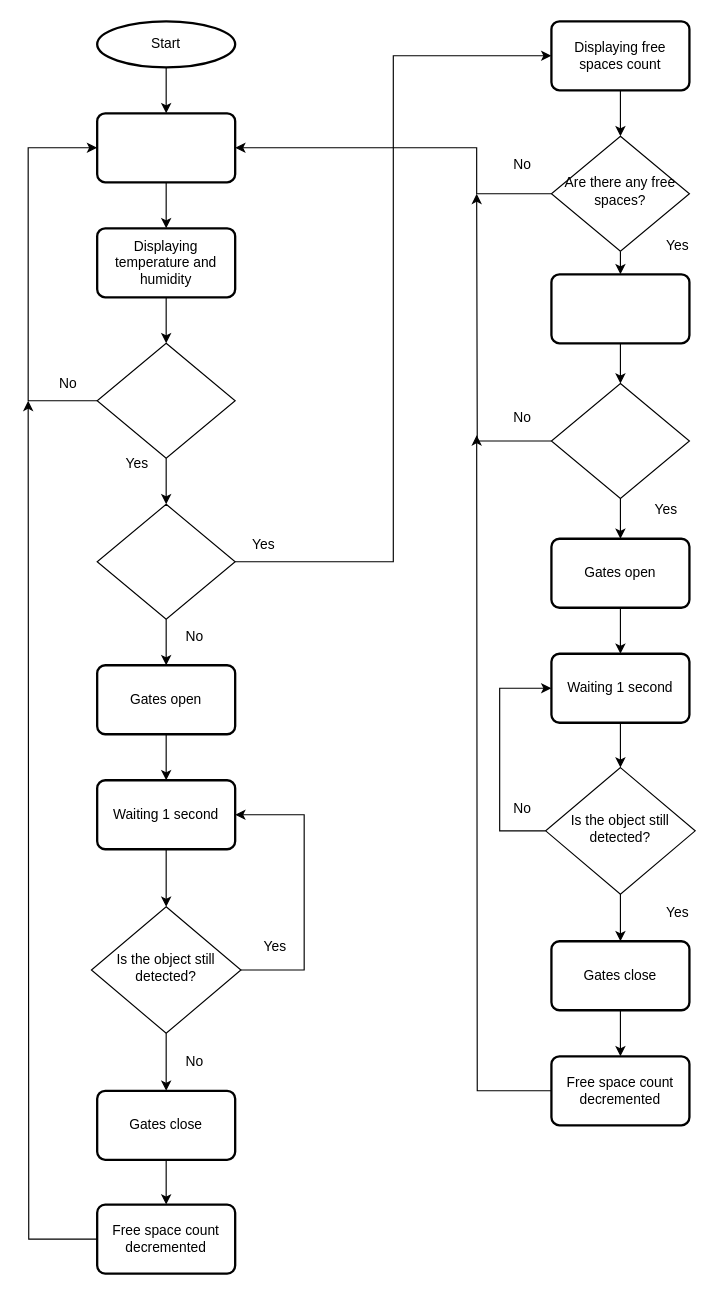
Image size: 727x1294. Some labels were removed from this diagram. The centre of each missing label's shape, as x and y in pixels:
Does it want to enter?: the point at 165,561
Is an object detected?: the point at 165,400
Is authentification successful?: the point at 619,440
Reading temperature and humidity: the point at 165,147
RFID scan: the point at 620,308
